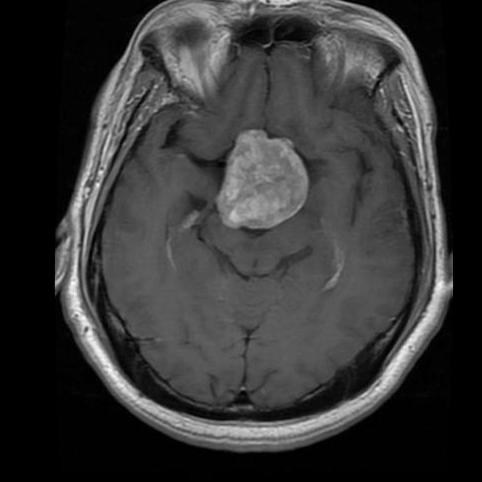Tumour-Pituitary: (220, 133, 311, 236)
